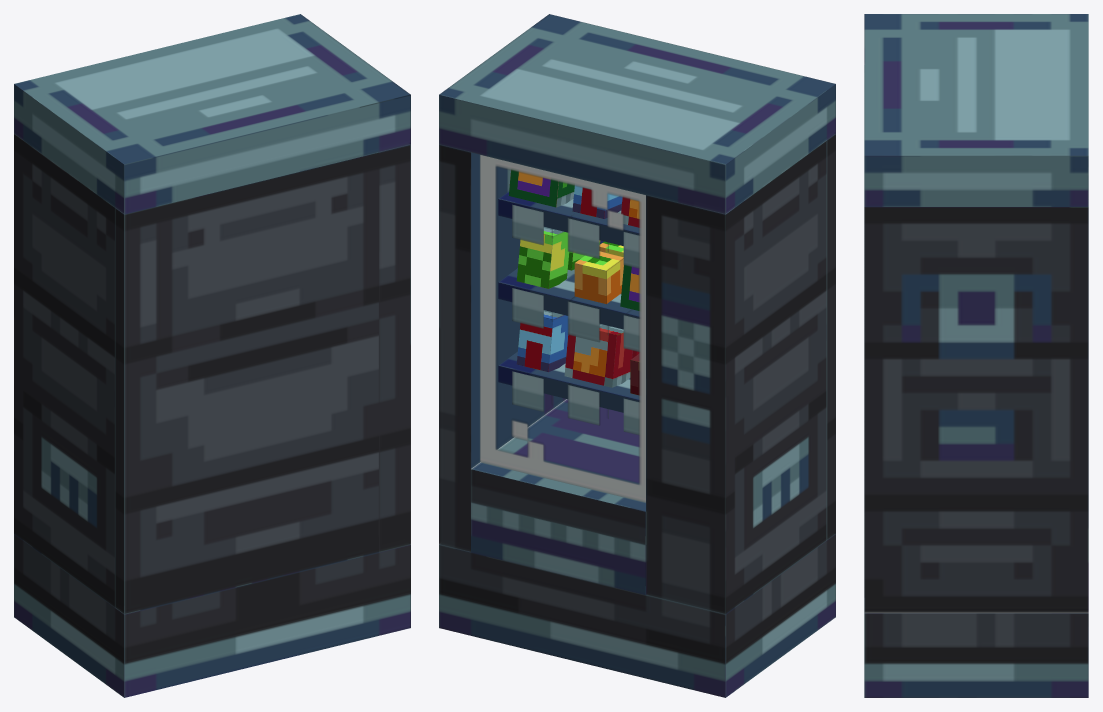
File: mojito.glb
3 renders of one model, left to right at view 1: azimuth 30°, elevation 25°; view 2: azimuth 150°, elevation 25°; view 3: azimuth 270°, elevation 25°, orthographic.
Visible parts, largest first — view 1: cube_17, cube_15, cube_18, cube, cube_16; view 2: cube_18, cube_15, cube, cube_16, cube_1, cube_2, cube_19, cube_17, cube_24, cube_7, cube_32, cube_22 (+12 smaller); view 3: cube_16, cube_15, cube.
Boxes of the visible parts, x1,y1,x2,y2 form: cube_17: [115, 152, 378, 614]; cube_15: [14, 14, 410, 214]; cube_18: [14, 134, 151, 607]; cube: [14, 534, 410, 697]; cube_16: [340, 112, 410, 552]; cube_18: [646, 141, 826, 614]; cube_15: [439, 14, 835, 214]; cube: [439, 534, 835, 697]; cube_16: [439, 145, 566, 552]; cube_1: [471, 399, 646, 544]; cube_2: [480, 155, 645, 502]; cube_19: [471, 502, 646, 594]; cube_17: [756, 134, 835, 540]; cube_24: [564, 324, 632, 387]; cube_7: [498, 240, 639, 329]; cube_32: [516, 227, 569, 288]; cube_22: [516, 310, 568, 372]; cube_16: [864, 207, 1088, 613]; cube_15: [864, 14, 1088, 206]; cube: [864, 612, 1088, 697].
Bounding box in the file's own units: 1.12 × 2 × 0.75.
Materials: 2 (2 with a texture image).
